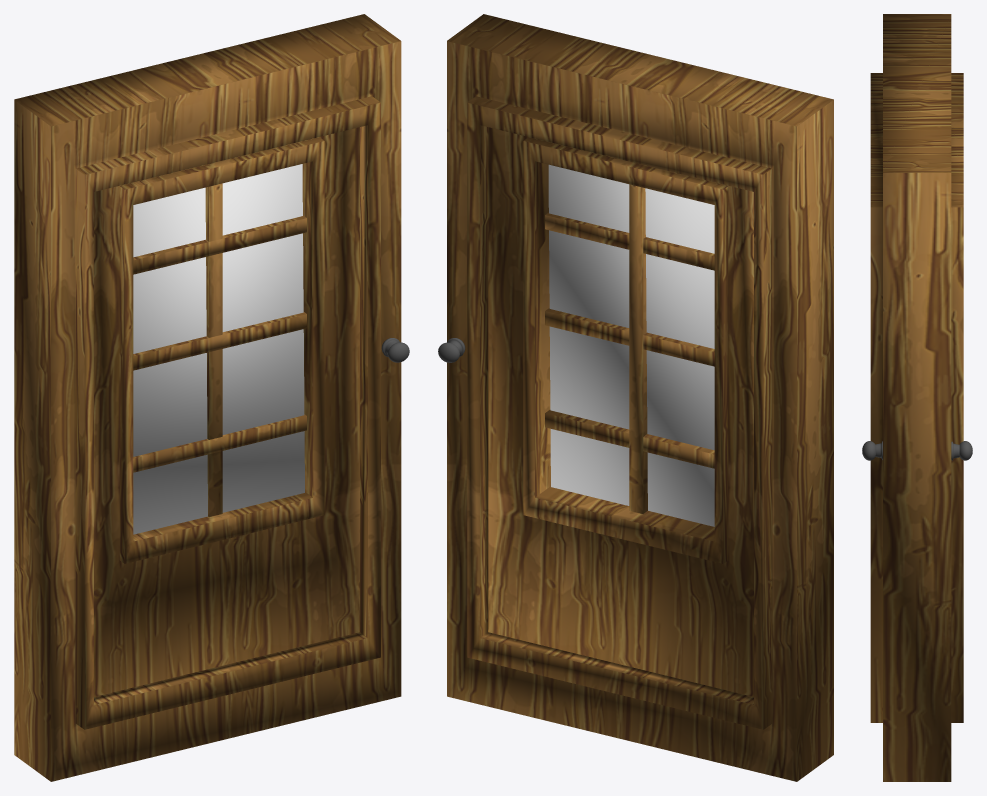
File: DoorMesh.fbx
3 renders of one model, left to right at view 1: azimuth 30°, elevation 25°; view 2: azimuth 150°, elevation 25°; view 3: azimuth 270°, elevation 25°, orthographic. The views are drawn at different scales.
Visible parts, largest first — view 1: door_00; view 2: door_00; view 3: door_00.
Part boxes in pixels (x1,y1,x2,y2): door_00: (14,14,409,781); door_00: (438,14,833,781); door_00: (862,14,972,781).
Bounding box in the file's own units: 136 × 242 × 39.92.
